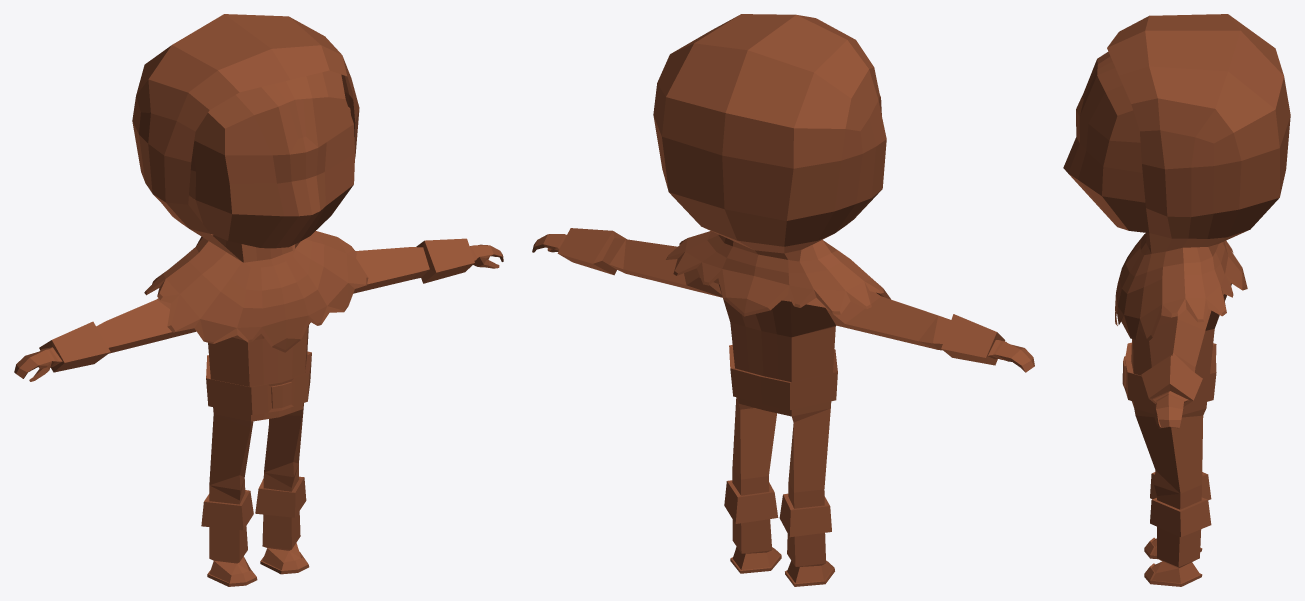
The model's file is sm_barbarian_archer_01.glb.
3 views of the same model, side by side, from view 1: azimuth 30°, elevation 25°; view 2: azimuth 150°, elevation 25°; view 3: azimuth 270°, elevation 25° (orthographic). The views are drawn at different scales.
Parts seen in each view (by area): view 1: Cube; view 2: Cube; view 3: Cube.
Part boxes in pixels (bbox=[...]): Cube: bbox=[14, 14, 503, 586]; Cube: bbox=[532, 14, 1034, 586]; Cube: bbox=[1063, 14, 1290, 586].
Size of the model in its own units: 1.51 by 1.57 by 0.6061.
